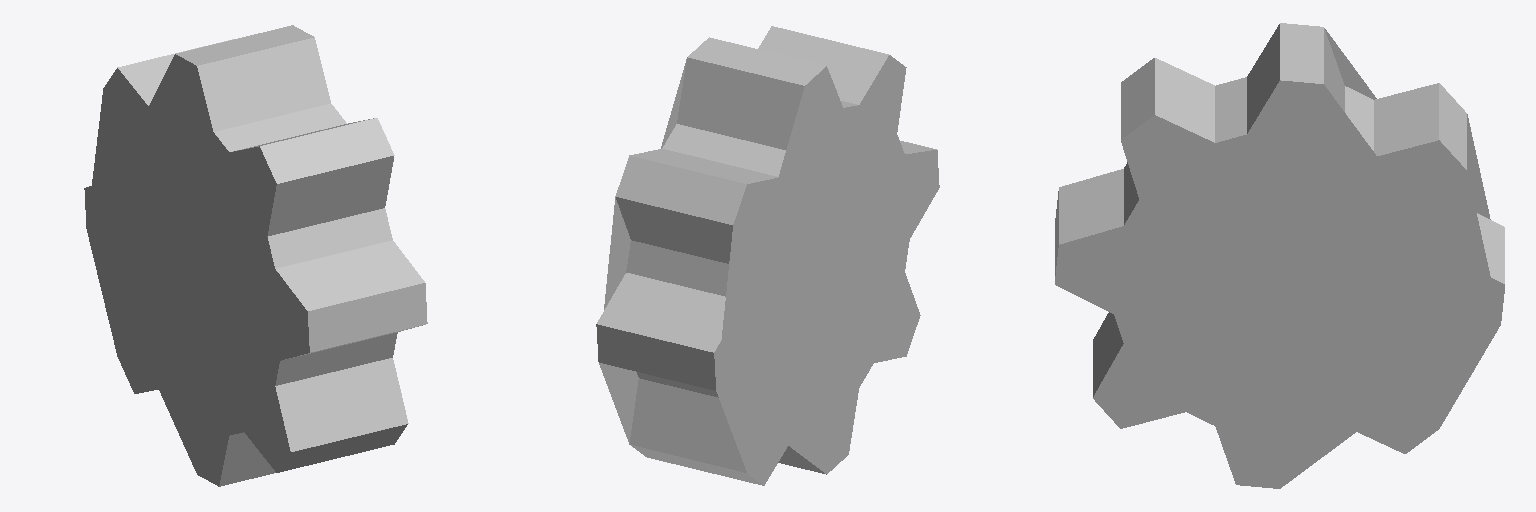
The model's file is weird.obj.
The picture shows the model from 3 angles: view 1: azimuth 30°, elevation 25°; view 2: azimuth 150°, elevation 25°; view 3: azimuth 270°, elevation 25°; orthographic projection.
Visible parts, largest first — view 1: Cylinder; view 2: Cylinder; view 3: Cylinder.
Boxes of the visible parts, box(x1,y1,x2,y2) form: Cylinder: box(84, 25, 427, 486); Cylinder: box(596, 26, 939, 485); Cylinder: box(1055, 23, 1504, 488).
Size of the model in its own units: 0.6032 by 2 by 2.